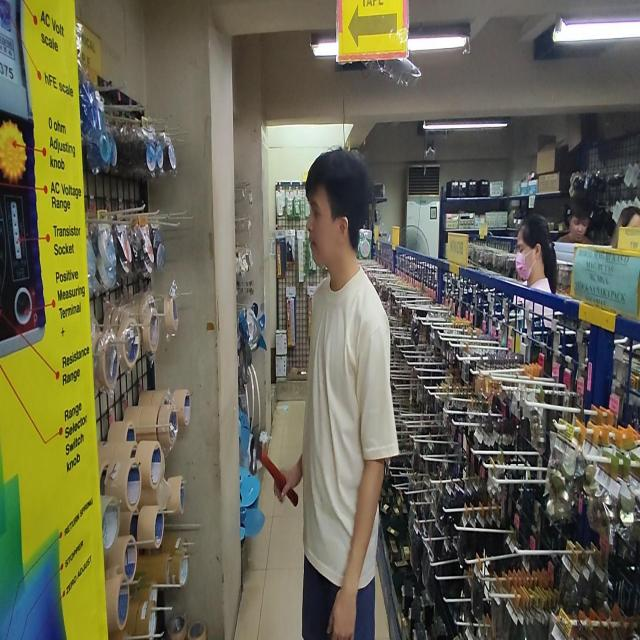hammer: (250, 425, 299, 508)
